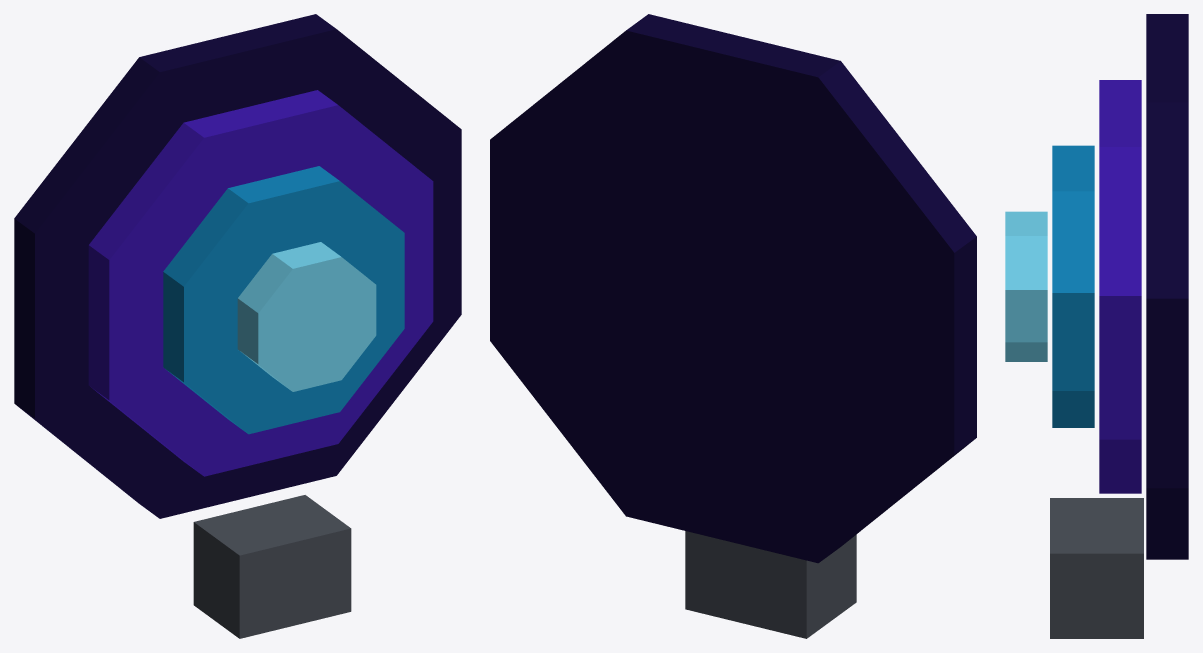
The model's file is EcoMenguante_low.fbx.
3 renders of one model, left to right at view 1: azimuth 30°, elevation 25°; view 2: azimuth 150°, elevation 25°; view 3: azimuth 270°, elevation 25°, orthographic. The views are drawn at different scales.
Parts seen in each view (by area): view 1: EcoMenguante_low; view 2: EcoMenguante_low; view 3: EcoMenguante_low.
Boxes of the visible parts, x1=… form: EcoMenguante_low: x1=14, y1=14, x2=461, y2=638; EcoMenguante_low: x1=490, y1=14, x2=976, y2=638; EcoMenguante_low: x1=1005, y1=14, x2=1188, y2=638.
Size of the model in its own units: 53.59 by 64.79 by 19.5.
